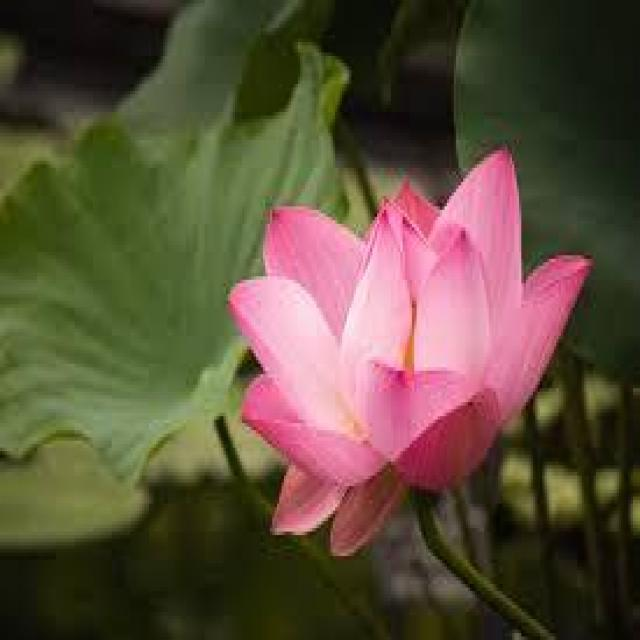organic waste: (226, 145, 593, 533)
